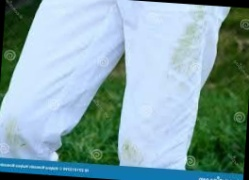earth: (171, 27, 201, 79), (121, 140, 142, 161), (5, 122, 23, 145), (189, 5, 205, 28)
